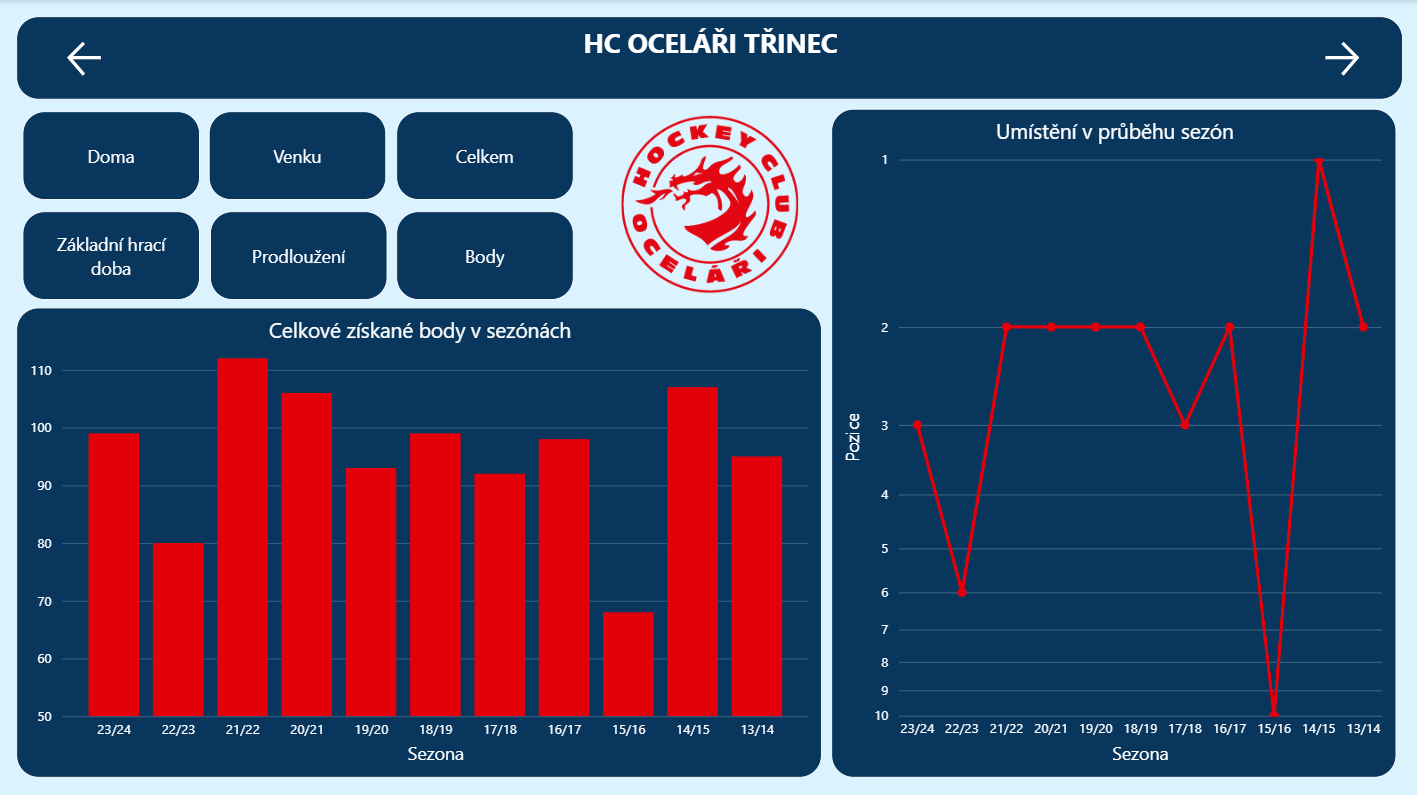

The page's visual inventory and layout, read from the dashboard file:
{"tool":"powerbi","page":{"name":"HC Ocelaři Třinec ","canvas":[1280,720],"ordinal":1},"visuals":[{"type":"textbox","title":"HC OCELÁŘI TŘINEC","box":[15,15,1250,75],"z":0},{"type":"actionButton","title":"Šipka-vlevo","box":[56.2,32.8,40.6,40.6],"z":1000},{"type":"actionButton","title":"Šipka-vpravo","box":[1189.1,32.8,42.2,40.6],"z":2000},{"type":"image","box":[555.2,97.8,168.8,172.4],"z":3000},{"type":"actionButton","title":"Celkem","box":[357.8,100,160,80],"z":8000},{"type":"clusteredColumnChart","title":"Domácí prohry a výhry v prodloužení","fields":{"Category":["SezonaPoradi.Sezona"],"Y":["Sum(Bilance_Doma.Prohry v prodloužení)","Sum(Bilance_Doma.Výhry v prodloužení)"]},"box":[14.3,277.1,725.7,424.3],"z":9250},{"type":"lineChart","title":"Umístění v průběhu sezón doma","fields":{"Category":["SezonaPoradi.Sezona"],"Y":["Sum(Bilance_Doma.#)"]},"box":[750.2,97.3,510.7,602.4],"z":10000},{"type":"actionButton","title":"Doma","box":[19.9,99.8,160,80],"z":11000},{"type":"actionButton","title":"Venku","box":[188.7,99.8,160,80],"z":16000},{"type":"actionButton","title":"Doma-ZHD","box":[20,190,160,80],"z":20000},{"type":"actionButton","title":"Doma-P","box":[188.6,190,160,80],"z":21000},{"type":"actionButton","title":"Doma-B","box":[357.1,190,160,80],"z":22000}]}

Visuals, with their boxes in screenshot pixels (x1, y1, x2, y2), scaled from the page's 1280x720 canvas onto the 1417x795 screenshot:
"HC OCELÁŘI TŘINEC" textbox: left=17, top=17, right=1400, bottom=99
"Šipka-vlevo" actionButton: left=62, top=36, right=107, bottom=81
"Šipka-vpravo" actionButton: left=1316, top=36, right=1363, bottom=81
image: left=615, top=108, right=801, bottom=298
"Celkem" actionButton: left=396, top=110, right=573, bottom=199
"Domácí prohry a výhry v prodloužení" clusteredColumnChart: left=16, top=306, right=819, bottom=774
"Umístění v průběhu sezón doma" lineChart: left=830, top=107, right=1396, bottom=773
"Doma" actionButton: left=22, top=110, right=199, bottom=199
"Venku" actionButton: left=209, top=110, right=386, bottom=199
"Doma-ZHD" actionButton: left=22, top=210, right=199, bottom=298
"Doma-P" actionButton: left=209, top=210, right=386, bottom=298
"Doma-B" actionButton: left=395, top=210, right=572, bottom=298
